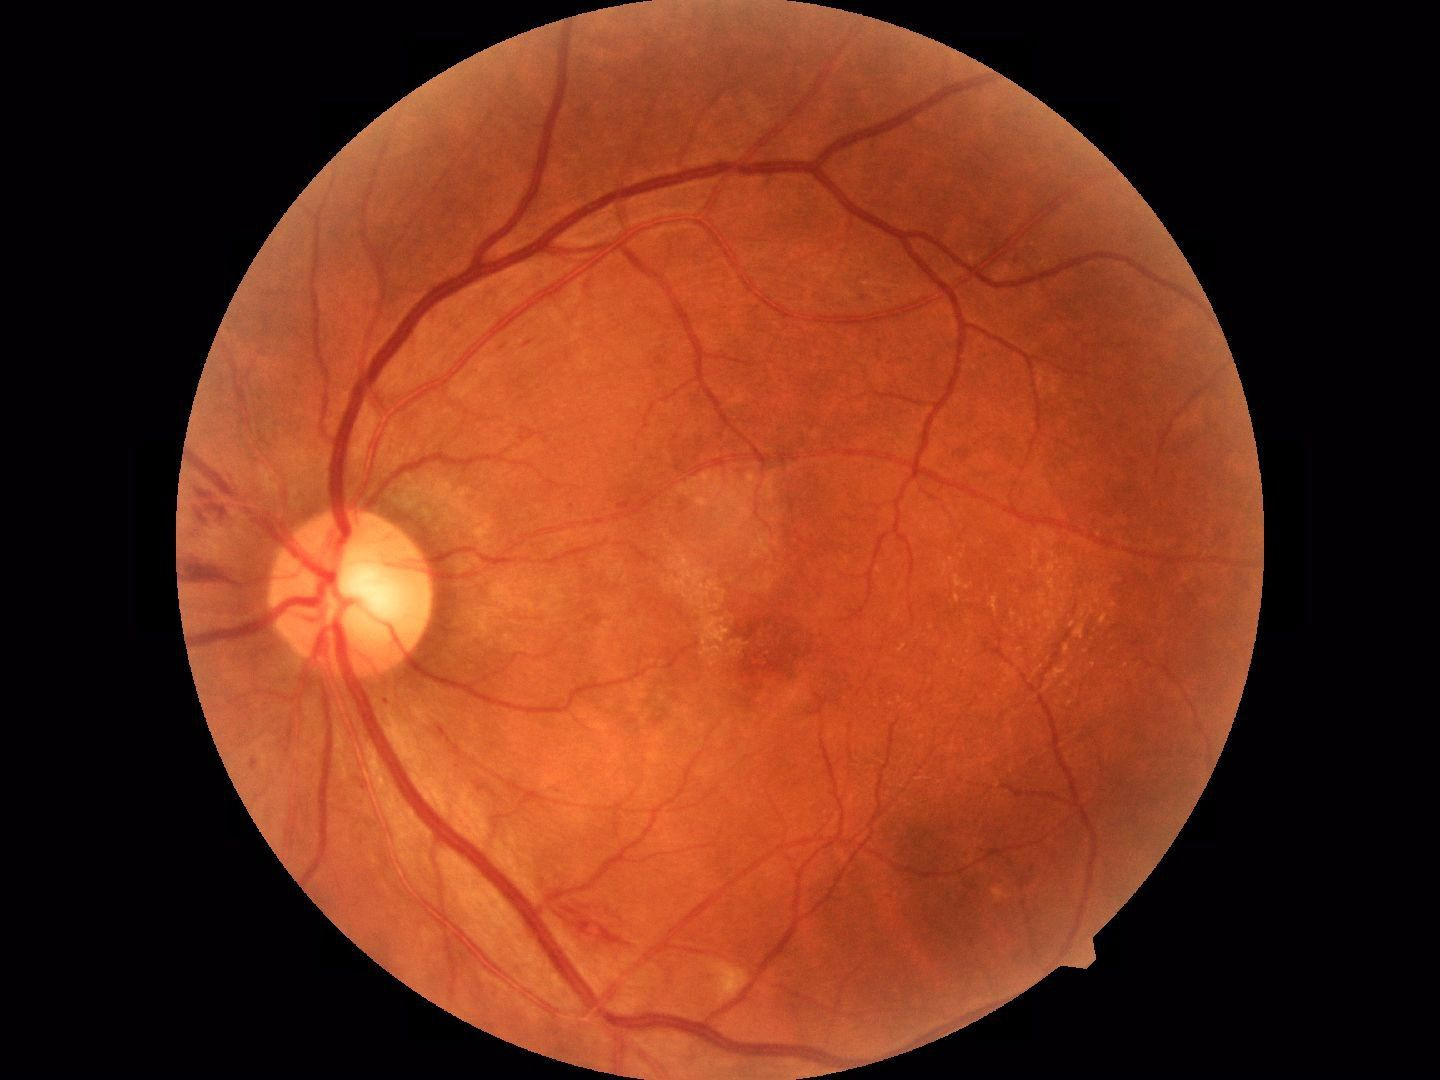Exudates: (1023, 580, 1109, 692)
Hemorrhages: (731, 599, 814, 680)
Microaneurysms: (184, 488, 234, 621)
Optic-Disc: (276, 515, 457, 674)
Venules: (480, 817, 586, 1003), (464, 189, 646, 282)
